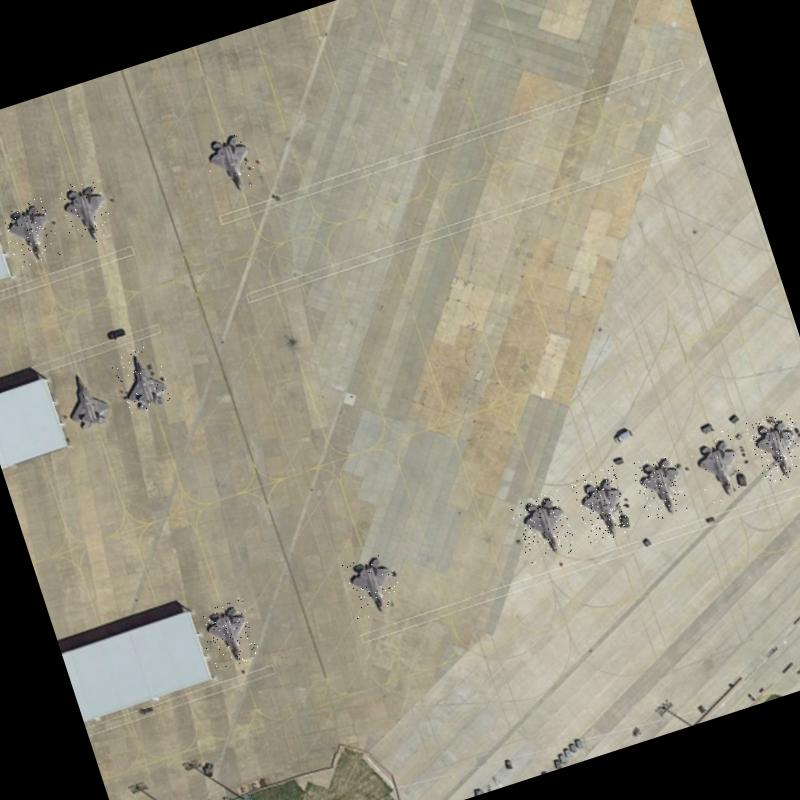A15: (508, 489, 578, 566), (570, 465, 634, 546), (338, 545, 406, 621), (194, 596, 262, 672), (109, 343, 175, 418), (198, 126, 262, 201), (688, 429, 749, 505), (54, 175, 116, 249), (53, 362, 116, 434), (0, 196, 62, 269), (629, 450, 690, 524), (744, 409, 800, 485)
